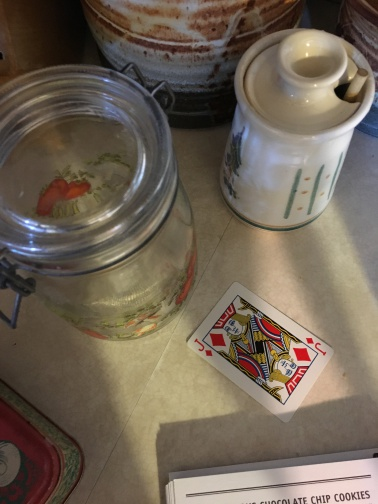jack: (186, 281, 334, 421)
